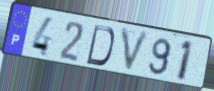1: (177, 39, 194, 84)
2: (57, 21, 85, 64)
4: (28, 15, 55, 59)
9: (149, 37, 173, 77)
D: (84, 24, 116, 68)
V: (119, 26, 152, 76)
